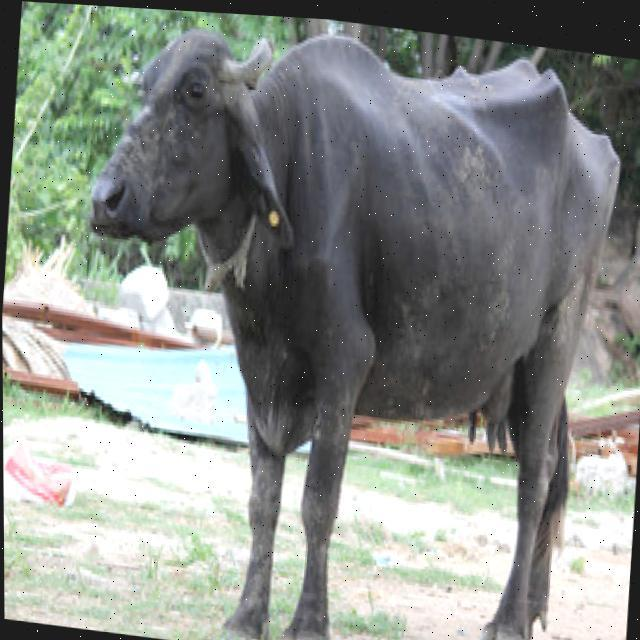Buffalo: (53, 3, 635, 640)
